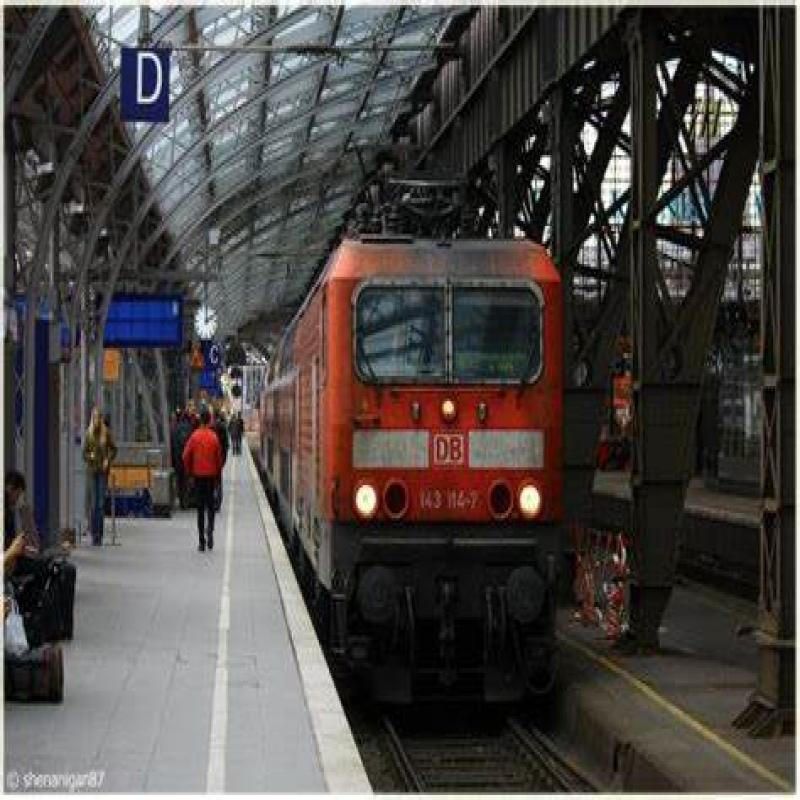train: (263, 237, 568, 687)
